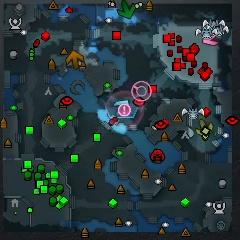Other: (132, 80, 152, 102), (118, 103, 132, 116)
x1: (202, 36, 219, 45)
x2: (196, 120, 214, 134)
x3: (113, 100, 130, 117)
x4: (118, 1, 136, 19)
x5: (66, 50, 84, 69)
